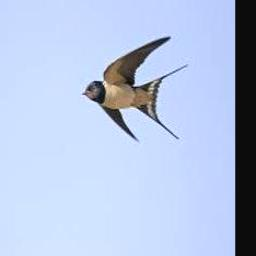Swallow: (82, 35, 189, 141)
